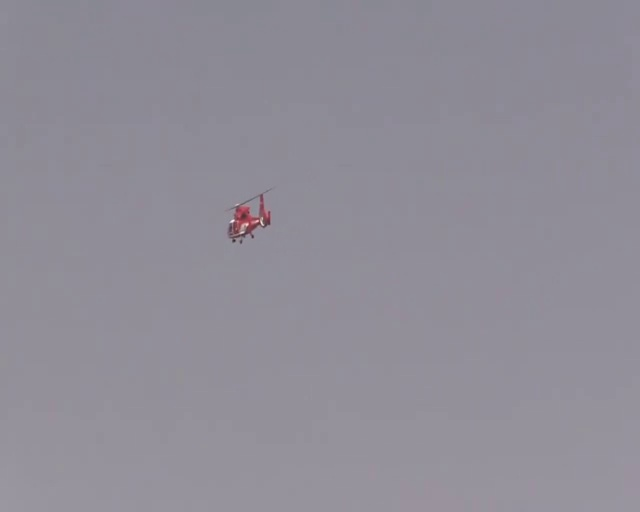HELICOPTER: (225, 185, 275, 244)
